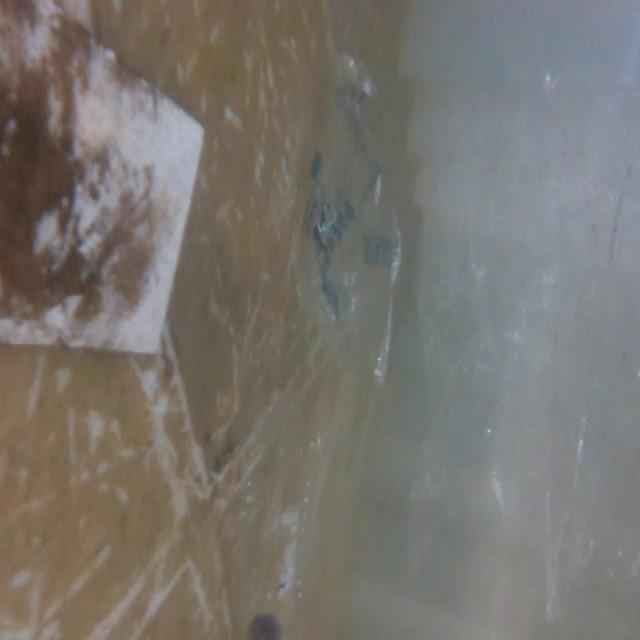plastic bags: (286, 54, 411, 386)
